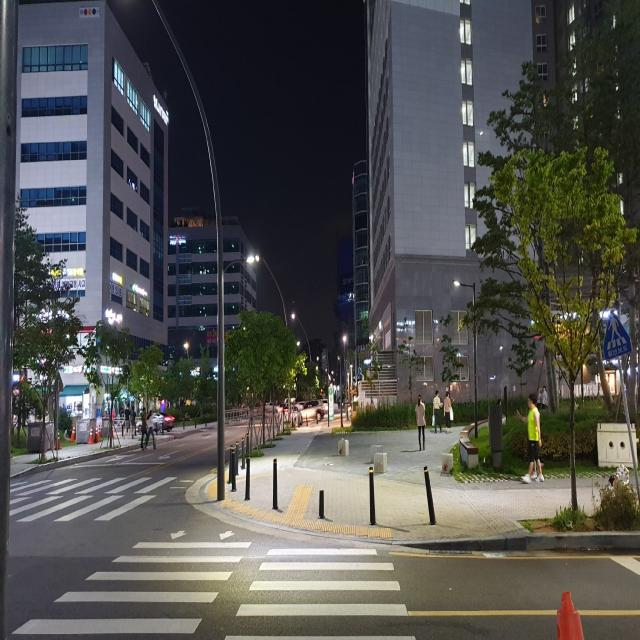횡단보도: (10, 527, 418, 640), (0, 466, 200, 524)
